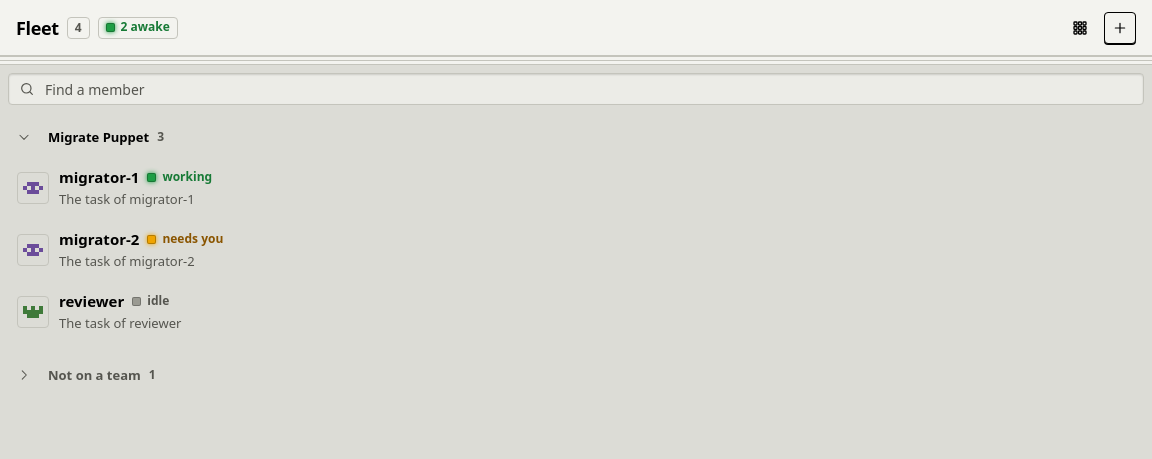
Test: folding a bridge in the people list › remembers a quiet group that the person opens, and forgets the choice when the person folds it again
Click the button named "Show the members of Not on a team" at (24, 375), box [8,359,40,391]
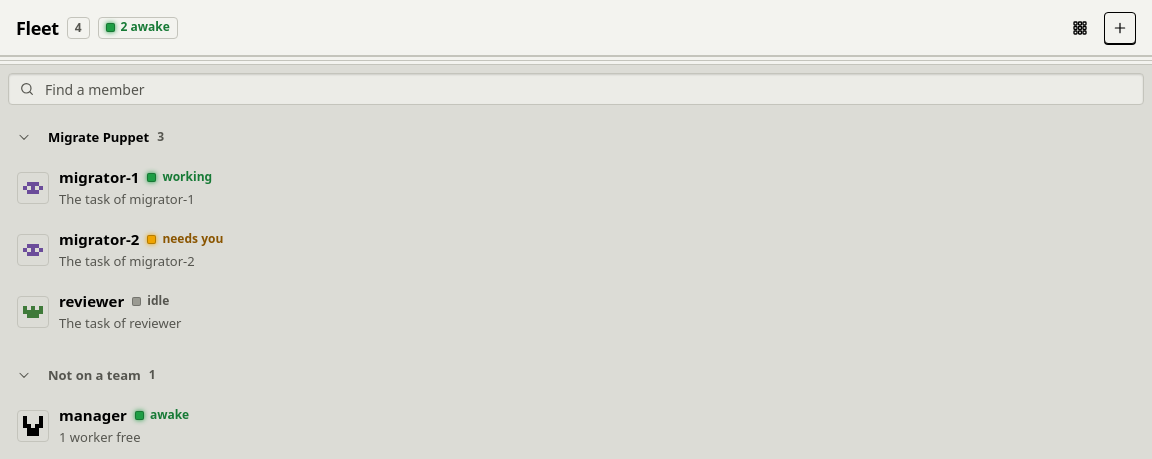
Check: the text "manager" is shown, box [59,404,127,426]
Click the button named "Hide the members of Not on a team" at (24, 375), box [8,359,40,391]
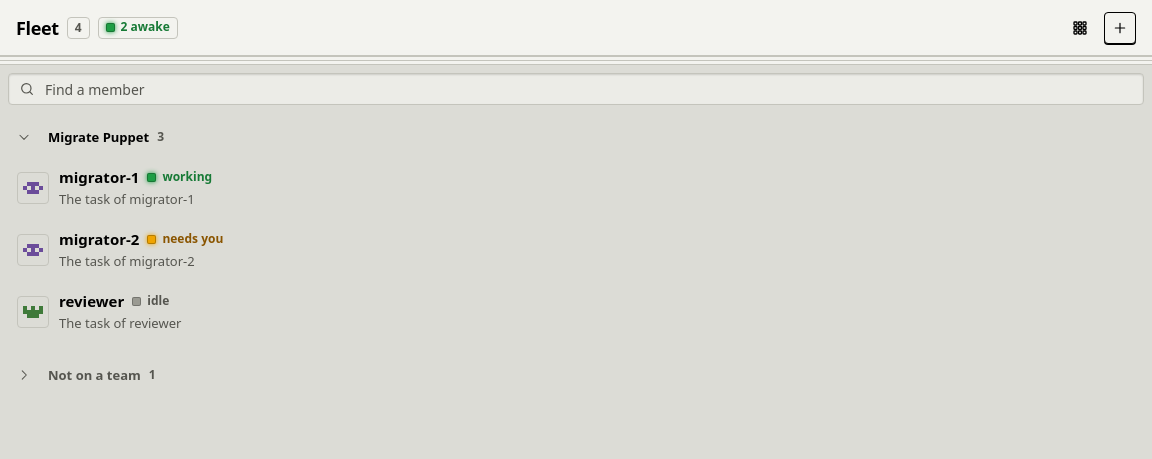
Check: the link "manager" no longer shows "manager"
